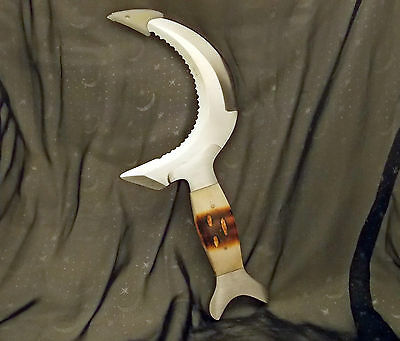knief: (107, 7, 296, 312)
